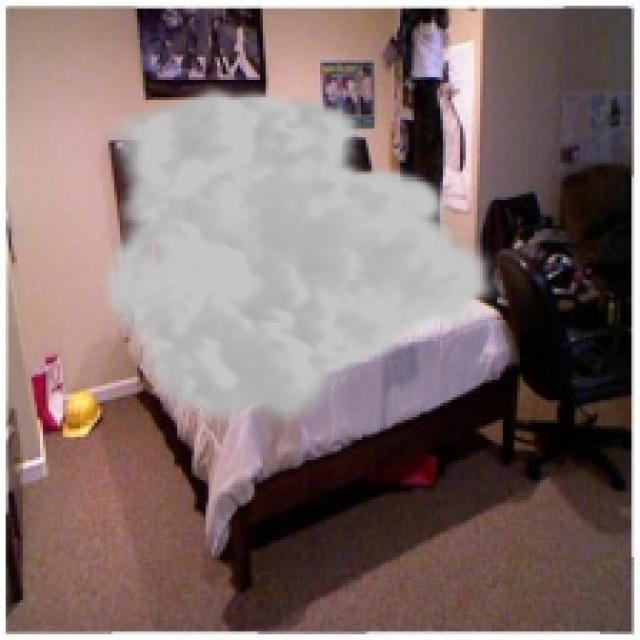Smoke: (97, 80, 506, 434)
